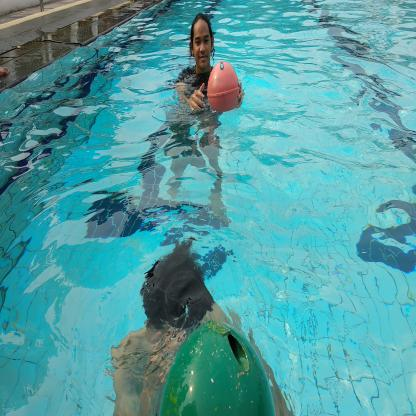green_buoy: (136, 298, 298, 416)
red_buoy: (204, 54, 246, 121)
